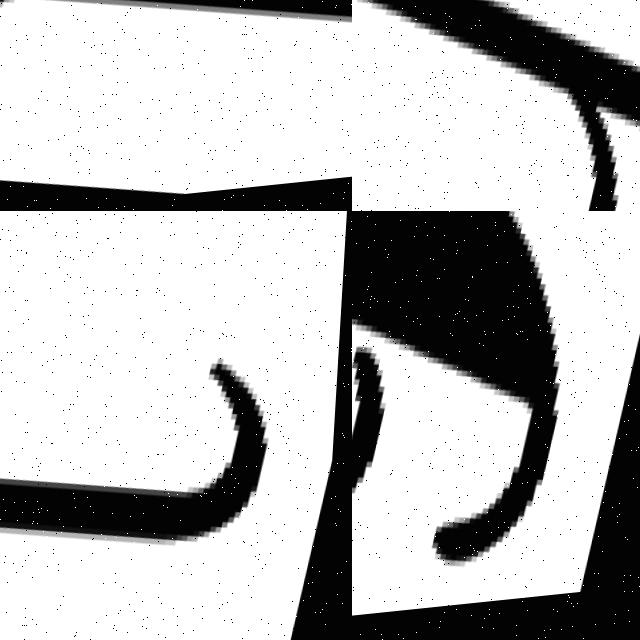9: (352, 211, 640, 630)
K: (0, 0, 352, 140)
Q: (352, 0, 640, 211)
T: (0, 284, 293, 640)
